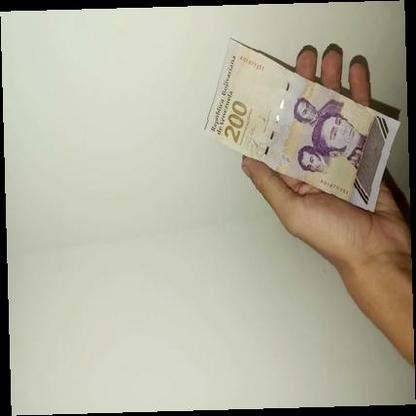vef_front: (202, 36, 402, 214)
